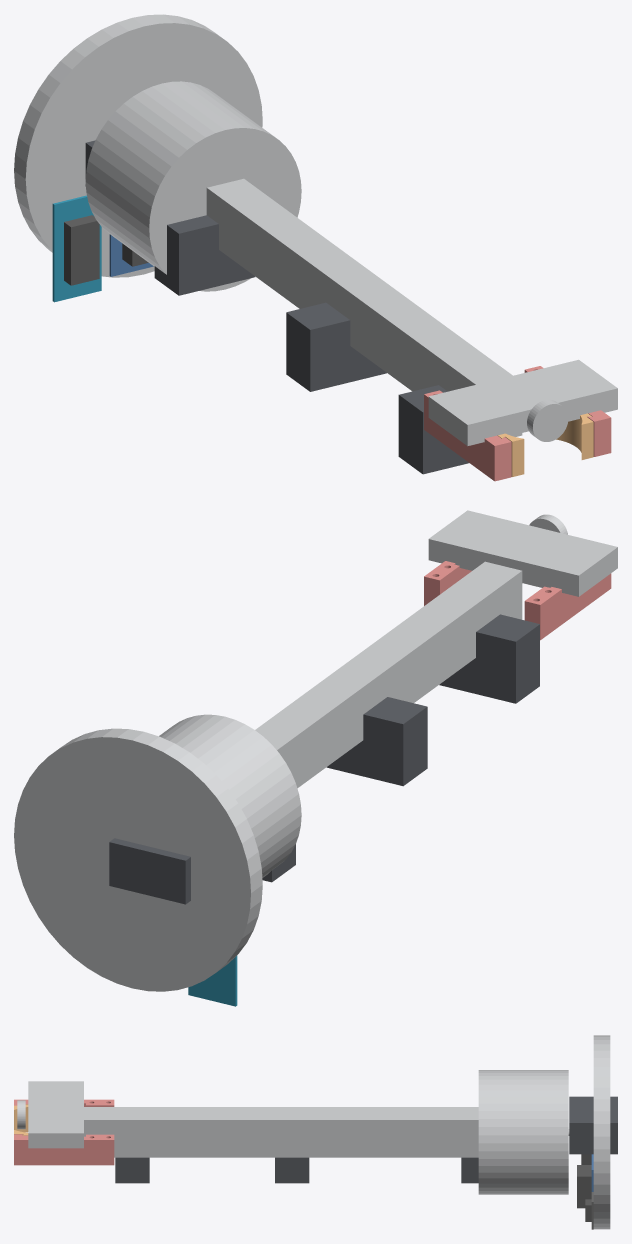
File: robot.glb
The picture shows the model from 3 angles, top to bottom: view 1: azimuth 30°, elevation 25°; view 2: azimuth 150°, elevation 25°; view 3: azimuth 270°, elevation 25°; orthographic projection. The views are drawn at different scales.
Visible parts, largest first — view 1: part__turret_shell, part__base_plate, part__upper_arm_link, part__forearm_link, part__gripper_plate, part__act_j3_body, part__act_j2_body, part__act_j4_body, part__mod_u1_pcb, part__finger_left_finger, part__mod_u1_parts, part__pinion_gear (+4 smaller); view 2: part__base_plate, part__turret_shell, part__gripper_plate, part__forearm_link, part__upper_arm_link, part__act_j3_body, part__act_j4_body, part__act_j1_body, part__wrist_link, part__finger_left_finger, part__mod_u1_pcb, part__finger_right_finger; view 3: part__turret_shell, part__upper_arm_link, part__forearm_link, part__gripper_plate, part__base_plate, part__finger_right_finger, part__act_j1_body, part__wrist_link, part__act_j4_body, part__act_j3_body, part__mod_u2_parts, part__act_j2_body (+1 smaller).
Part boxes in pixels (<box>): part__turret_shell: <box>85,81,301,291</box>; part__base_plate: <box>14,14,262,277</box>; part__upper_arm_link: <box>206,178,374,310</box>; part__forearm_link: <box>338,275,487,391</box>; part__gripper_plate: <box>428,359,617,446</box>; part__act_j3_body: <box>286,302,386,391</box>; part__act_j2_body: <box>154,215,255,295</box>; part__act_j4_body: <box>398,385,468,474</box>; part__mod_u1_pcb: <box>52,195,101,302</box>; part__finger_left_finger: <box>424,390,511,481</box>; part__mod_u1_parts: <box>64,215,99,285</box>; part__pinion_gear: <box>527,399,568,441</box>; part__base_plate: <box>14,728,262,991</box>; part__turret_shell: <box>159,714,301,877</box>; part__gripper_plate: <box>428,510,617,596</box>; part__forearm_link: <box>338,587,487,705</box>; part__upper_arm_link: <box>255,669,375,788</box>; part__act_j3_body: <box>326,697,427,786</box>; part__act_j4_body: <box>439,614,539,703</box>; part__act_j1_body: <box>109,838,190,904</box>; part__wrist_link: <box>451,561,522,622</box>; part__finger_left_finger: <box>524,573,611,640</box>; part__mod_u1_pcb: <box>188,955,237,1006</box>; part__finger_right_finger: <box>424,561,471,605</box>; part__turret_shell: <box>478,1070,568,1194</box>; part__upper_arm_link: <box>292,1107,478,1157</box>; part__forearm_link: <box>132,1107,292,1157</box>; part__gripper_plate: <box>28,1081,83,1148</box>; part__base_plate: <box>593,1035,610,1229</box>; part__finger_right_finger: <box>14,1134,114,1165</box>; part__act_j1_body: <box>569,1096,617,1154</box>; part__wrist_link: <box>84,1107,132,1157</box>; part__act_j4_body: <box>115,1157,149,1183</box>; part__act_j3_body: <box>275,1157,309,1183</box>; part__mod_u2_parts: <box>577,1165,591,1208</box>; part__act_j2_body: <box>461,1157,478,1183</box>.
Size of the model in its own units: 140 by 142 by 436.
